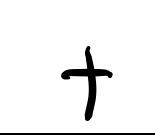plus: (62, 45, 113, 121)
